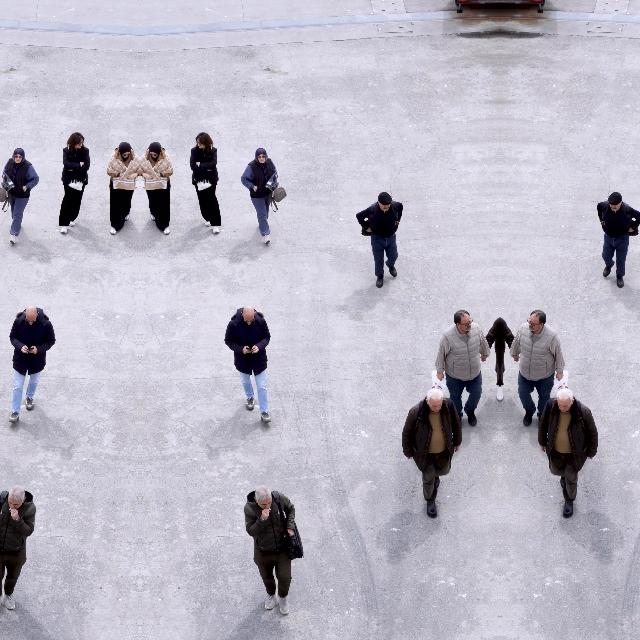person: (402, 388, 462, 518), (538, 388, 598, 518), (244, 486, 296, 616), (434, 309, 490, 426), (510, 309, 566, 426), (224, 306, 272, 424), (8, 306, 56, 424), (0, 486, 36, 616), (356, 192, 404, 288), (596, 191, 640, 288), (240, 147, 280, 245), (1, 147, 40, 245), (188, 132, 222, 235), (58, 132, 92, 235), (140, 141, 174, 235), (106, 141, 140, 235), (486, 317, 500, 401), (500, 317, 514, 401)
